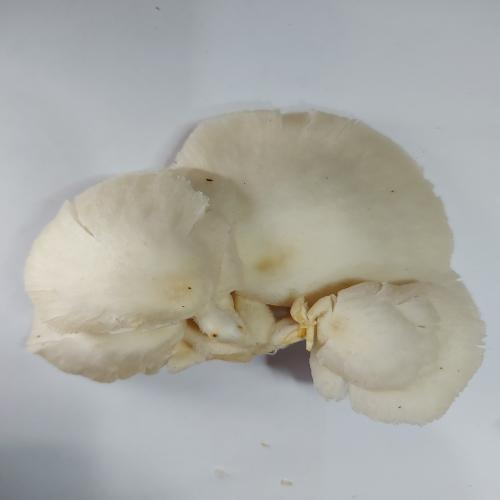Oyster Mushroom: (23, 107, 487, 425), (295, 277, 487, 426)
